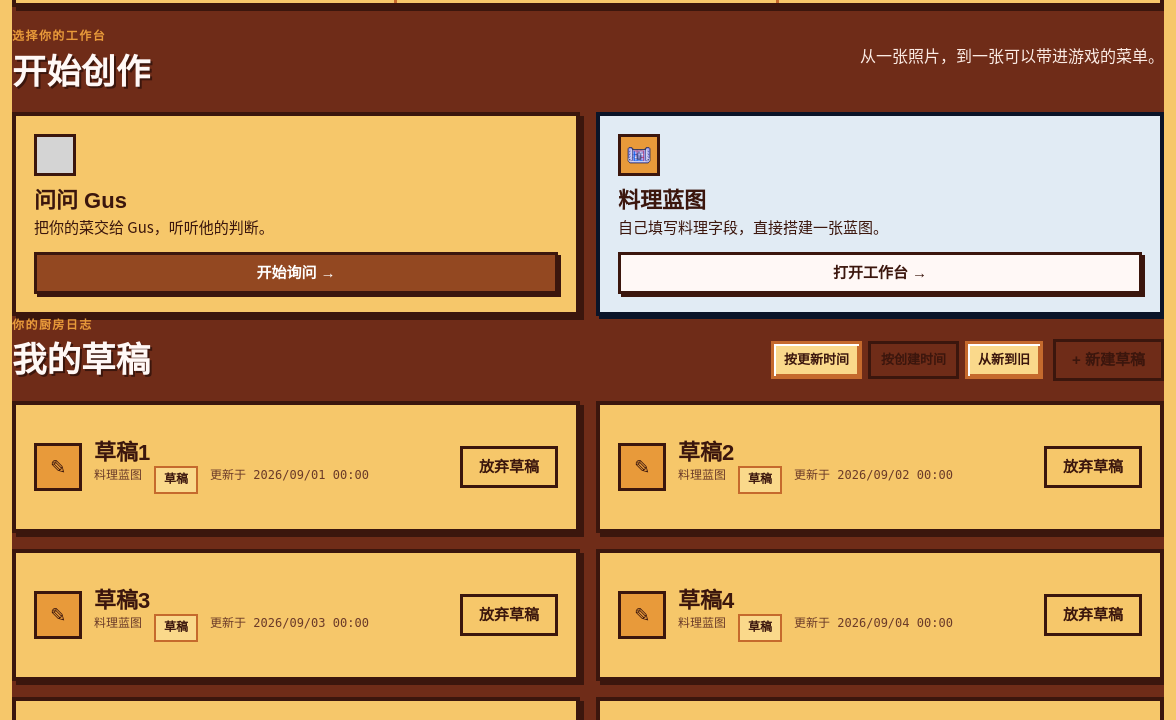
Scenario: home page draft pagination and sorting (M13 Task 57) › changes the sort field and direction, sending page=1 queries
(page scrolled)
Check: the heading "草稿1" is shown, box [94,440,150,465]
Click the button "按创建时间": x=914, y=360 [868,341,959,379]
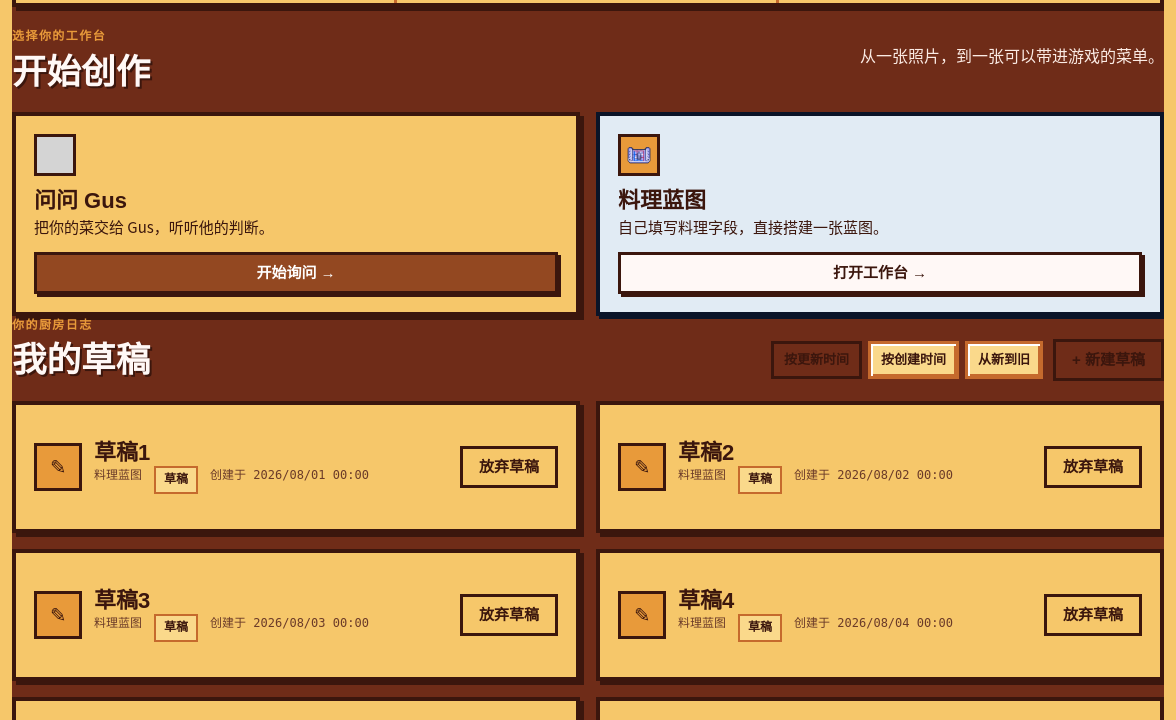
Click the button "从新到旧": x=1004, y=360 [965,341,1043,379]
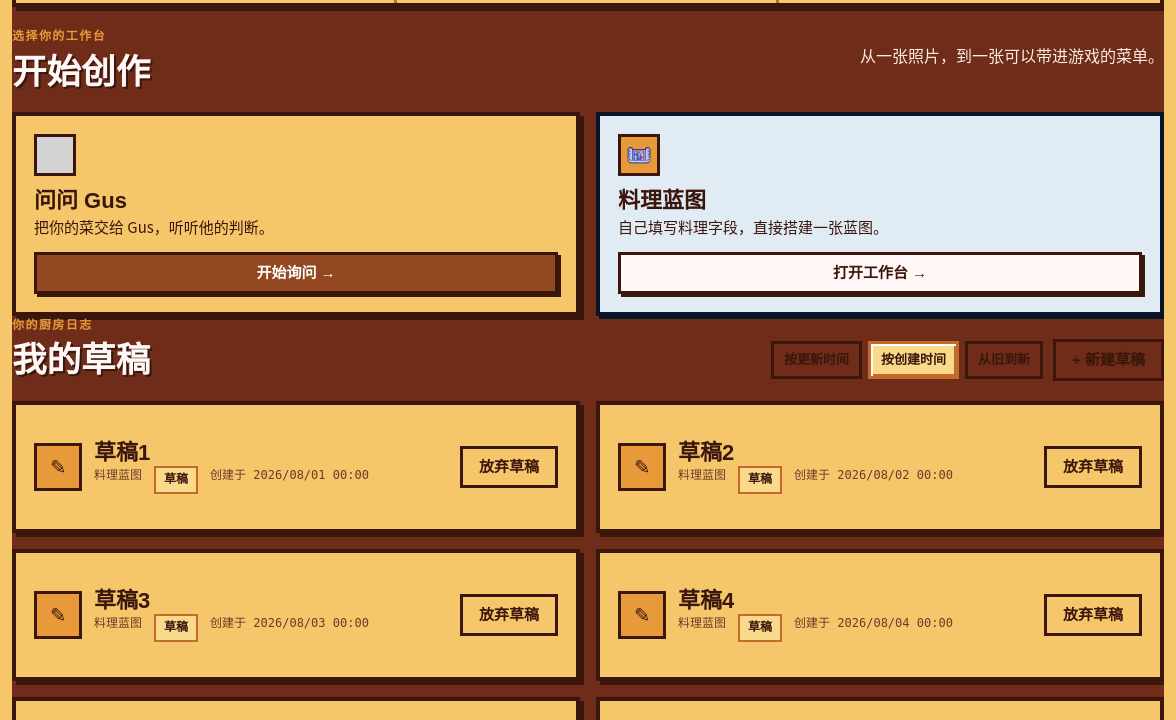
Check: the button "从旧到新" is shown, box [965,341,1043,379]
